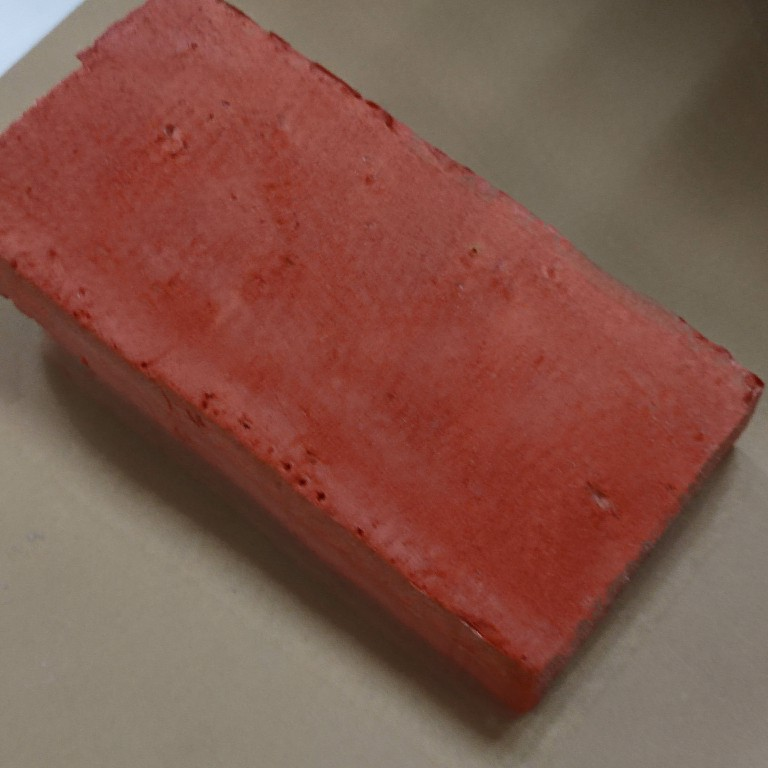brick: (1, 1, 765, 729)
